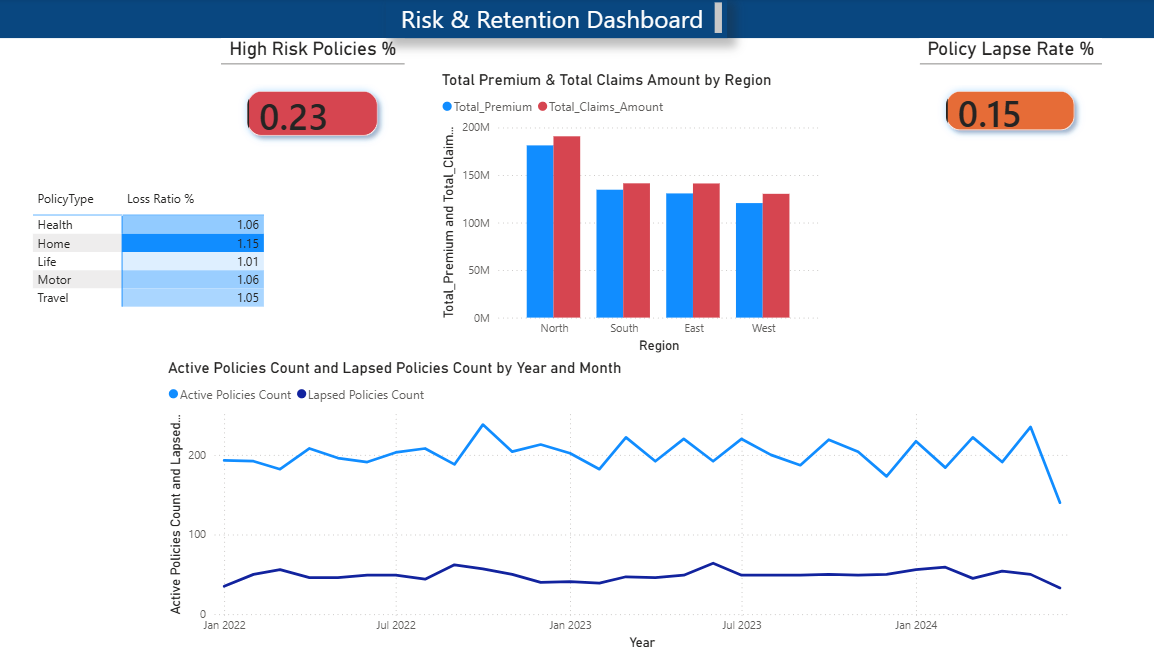

The dashboard page shown, as its layout file describes it:
{"tool":"powerbi","page":{"name":"Page 4","canvas":[1280,720],"ordinal":3},"visuals":[{"type":"shape","box":[0,0,1280,44],"z":0},{"type":"cardVisual","title":"High Risk Policies %","fields":{"Data":["Measure_Table.High Risk Policy %"]},"box":[247,43.9,201.7,135.8],"z":1000},{"type":"textbox","box":[428,0,374,44],"z":2000},{"type":"cardVisual","title":"Policy Lapse Rate %","fields":{"Data":["Measure_Table.Policy Lapse Rate %"]},"box":[1014,43.5,199.7,129.3],"z":3000},{"type":"clusteredColumnChart","title":"Total Premium & Total Claims Amount by Region","fields":{"Category":["Dim_Agent.Region"],"Y":["Measure_Table.Total_Premium","Measure_Table.Total_Claims_Amount"]},"box":[485,80,425,315],"z":4000},{"type":"pivotTable","fields":{"Rows":["Dim_Policy.PolicyType"],"Values":["Measure_Table.Loss Ratio %"]},"box":[35,205,268.3,143.3],"z":5000},{"type":"lineChart","fields":{"Y":["Measure_Table.Active Policies Count","Measure_Table.Lapsed Policies Count"],"Category":["Fact_Policies.StartDate.Variation.Date Hierarchy.Year","Fact_Policies.StartDate.Variation.Date Hierarchy.Month"]},"box":[183.3,395,1013.3,325],"z":5001}]}

Visuals, with their boxes in screenshot pixels (x1, y1, x2, y2), scaled from the page's 1280x720 canvas onto the 1154x647 screenshot:
shape: locate(0, 0, 1153, 40)
"High Risk Policies %" cardVisual: locate(223, 39, 405, 161)
textbox: locate(386, 0, 723, 40)
"Policy Lapse Rate %" cardVisual: locate(914, 39, 1094, 155)
"Total Premium & Total Claims Amount by Region" clusteredColumnChart: locate(437, 72, 820, 355)
pivotTable - Dim_Policy.PolicyType x Measure_Table.Loss Ratio %: locate(32, 184, 273, 313)
lineChart - Measure_Table.Active Policies Count x Measure_Table.Lapsed Policies Count: locate(165, 355, 1079, 646)
